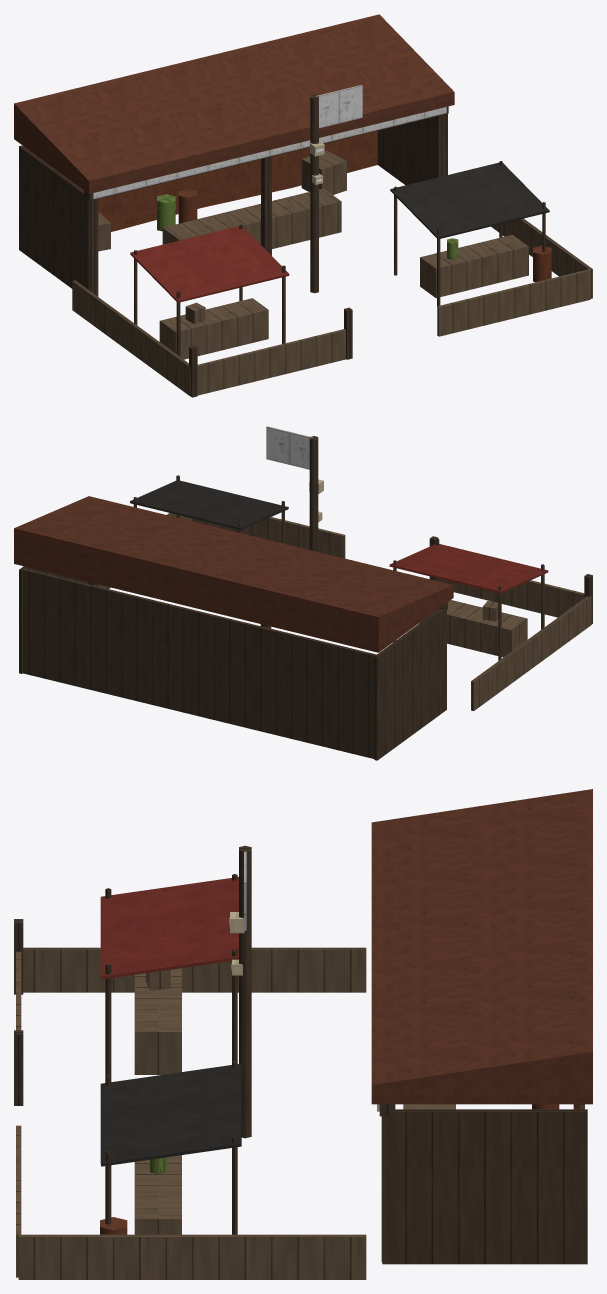
3 renders of one model, top to bottom at view 1: azimuth 30°, elevation 25°; view 2: azimuth 150°, elevation 25°; view 3: azimuth 270°, elevation 25°, orthographic. The views are drawn at different scales.
Parts seen in each view (by area): view 1: raider_building_market; view 2: raider_building_market; view 3: raider_building_market.
Part boxes in pixels (<box>): raider_building_market: <box>14,14,592,397</box>; raider_building_market: <box>14,426,592,760</box>; raider_building_market: <box>14,789,592,1279</box>.
Size of the model in its own units: 13 by 6 by 10.99.
10 materials, 10 textured.
